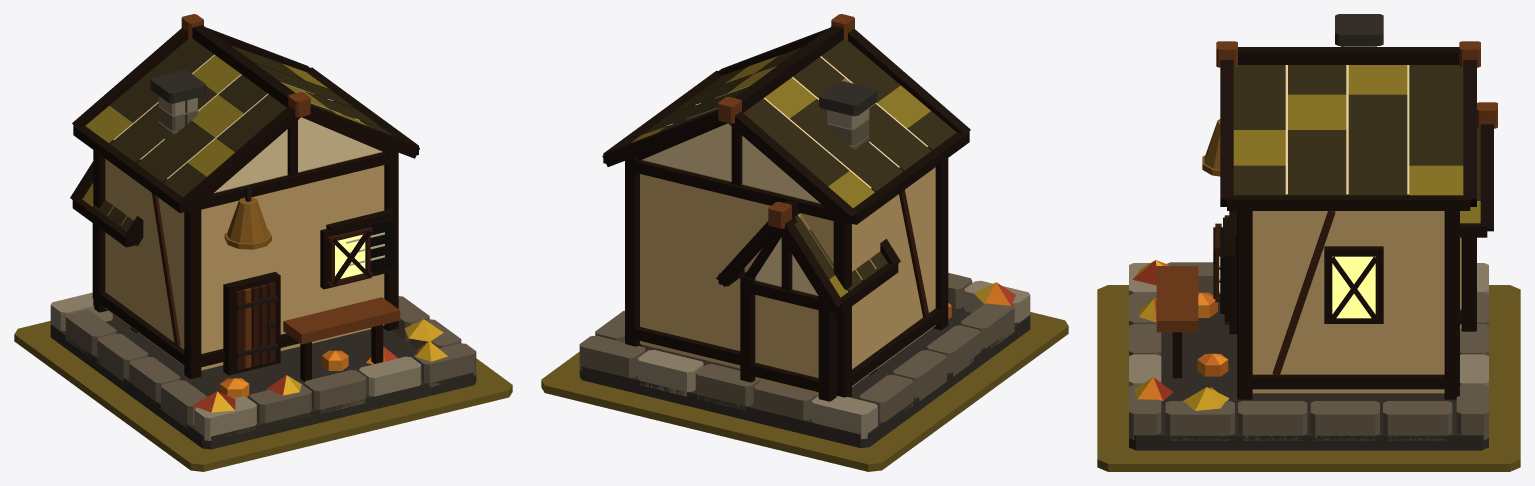
File: schoolroom_t6.glb
3 views of the same model, side by side, from view 1: azimuth 30°, elevation 25°; view 2: azimuth 150°, elevation 25°; view 3: azimuth 270°, elevation 25° (orthographic). The views are drawn at different scales.
Parts seen in each view (by area): view 1: MMR | schoolroom | T06 Architecture.001, MMR | schoolroom | Tier 06 Ground.001, MMR | schoolroom | T06 Autumn Dressing.001; view 2: MMR | schoolroom | T06 Architecture.001, MMR | schoolroom | Tier 06 Ground.001, MMR | schoolroom | T06 Autumn Dressing.001; view 3: MMR | schoolroom | T06 Architecture.001, MMR | schoolroom | Tier 06 Ground.001, MMR | schoolroom | T06 Autumn Dressing.001.
Part boxes in pixels (<box>): MMR | schoolroom | T06 Architecture.001: <box>50,14,476,449</box>; MMR | schoolroom | Tier 06 Ground.001: <box>14,321,512,471</box>; MMR | schoolroom | T06 Autumn Dressing.001: <box>193,319,447,412</box>; MMR | schoolroom | T06 Architecture.001: <box>579,14,1030,447</box>; MMR | schoolroom | Tier 06 Ground.001: <box>541,312,1068,471</box>; MMR | schoolroom | T06 Autumn Dressing.001: <box>948,282,1015,318</box>; MMR | schoolroom | T06 Architecture.001: <box>1129,14,1497,450</box>; MMR | schoolroom | Tier 06 Ground.001: <box>1097,285,1520,471</box>; MMR | schoolroom | T06 Autumn Dressing.001: <box>1132,260,1229,410</box>.
Size of the model in its own units: 2.35 by 2.07 by 2.35.
2 materials, 1 textured.
